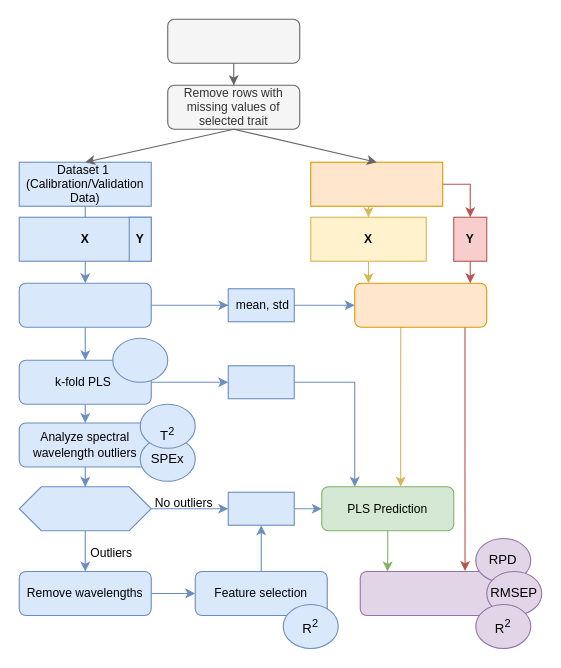
Image size: 561x668. Some labels were removed from this diagram. Each missing label, with the box of its shape:
Apply rescaling: (354, 282, 487, 327)
Center and rescale: (18, 282, 151, 327)
Dataset 2 (Test): (310, 161, 443, 206)
Evaluate Model Accuracy: (359, 570, 492, 615)
no. PLS components: (227, 365, 294, 399)
Outlier detection?: (18, 486, 151, 531)
Pretreated data: (167, 18, 300, 63)
Q 2 CV: (112, 337, 168, 382)
Removed outliers: (227, 491, 294, 525)
